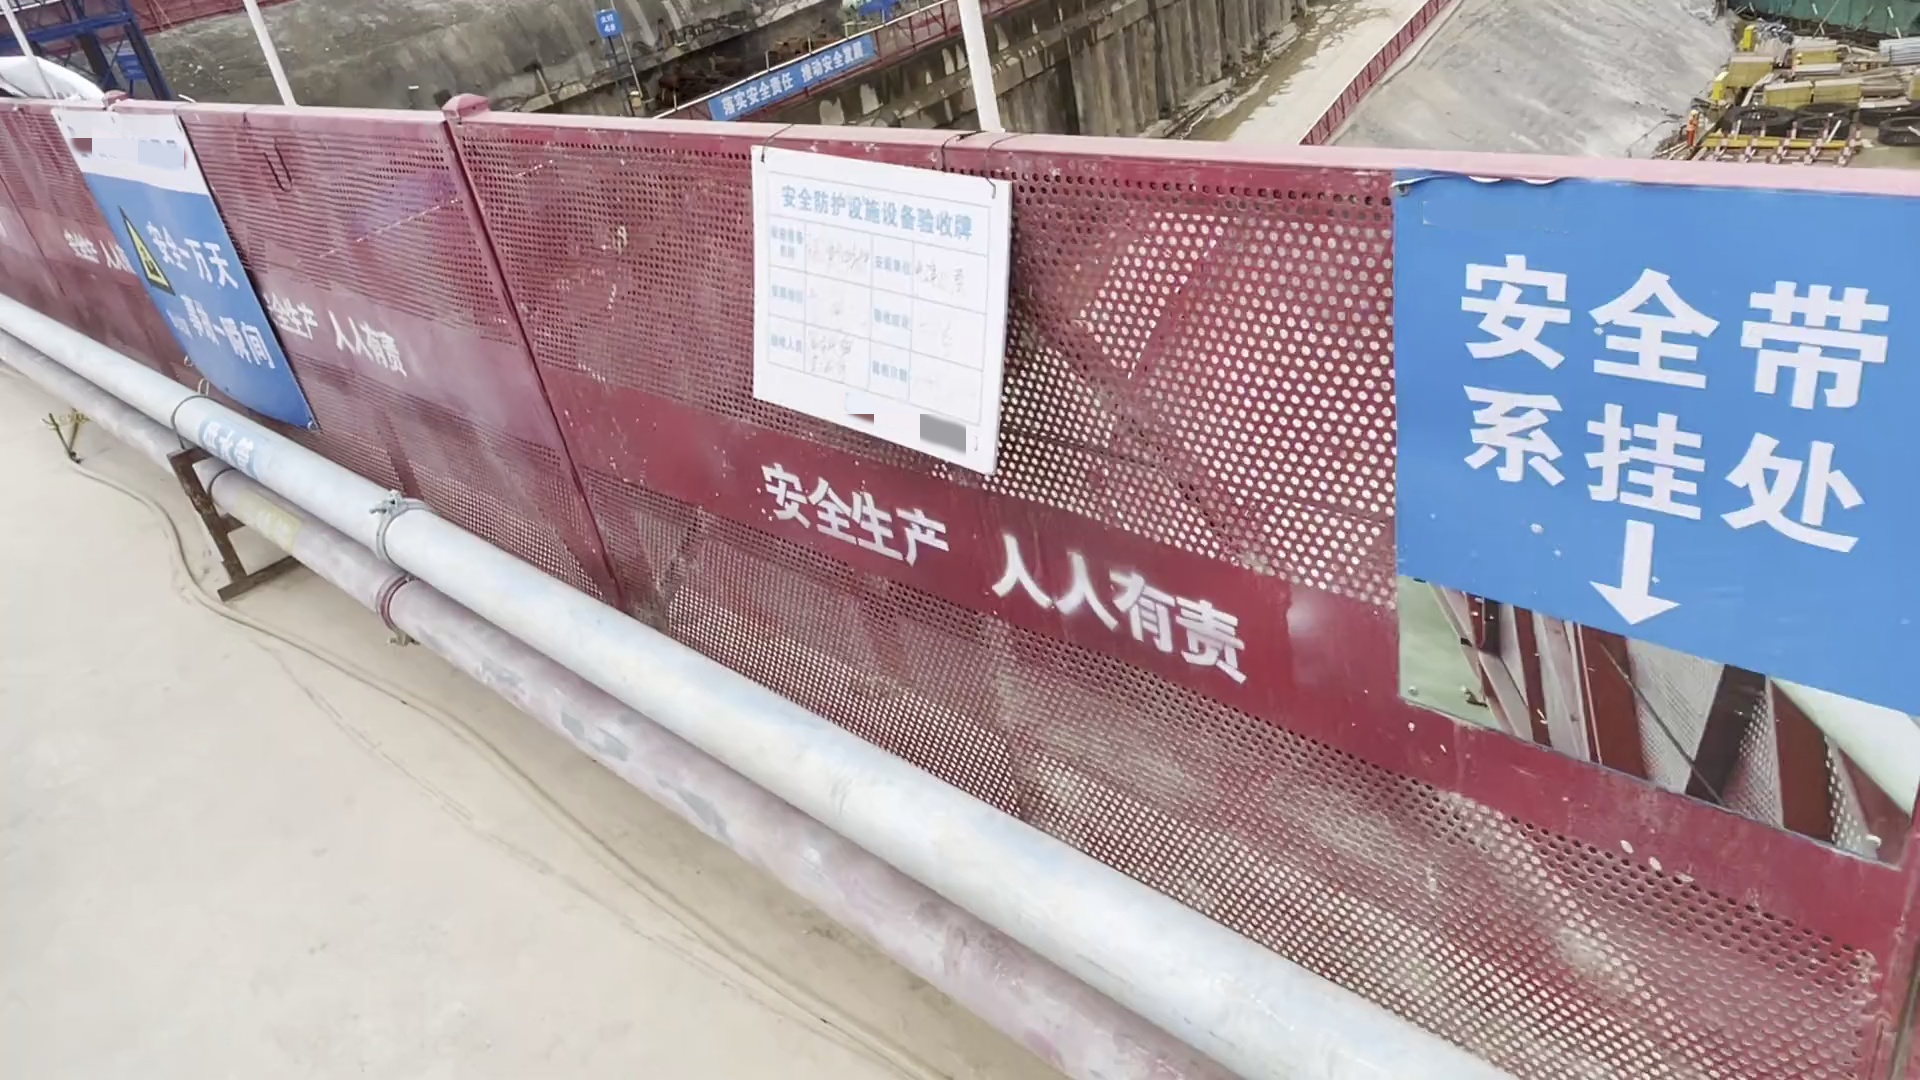fence: (400, 102, 1905, 1073)
slogan: (1364, 164, 1917, 720), (51, 109, 319, 435), (713, 29, 870, 127)
